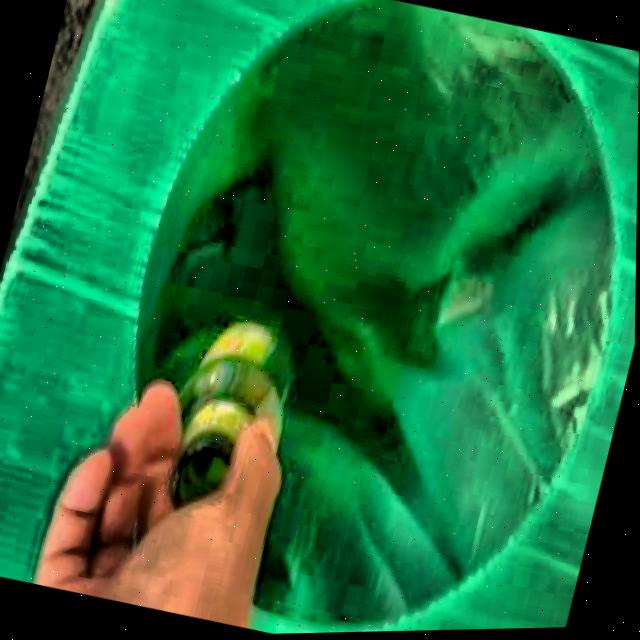glass: (170, 324, 290, 508)
